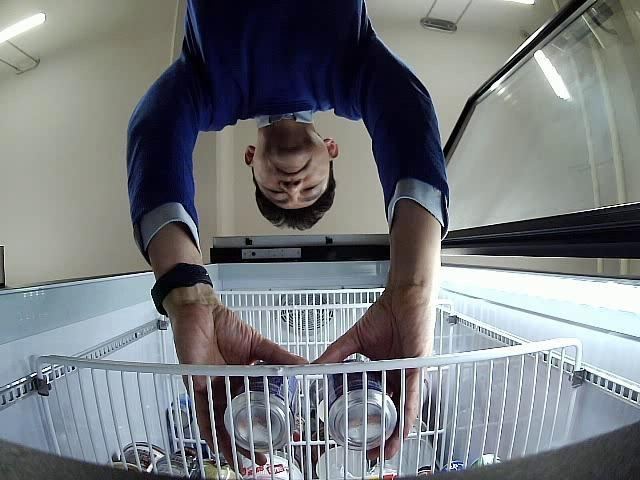14_welchsGrape: (224, 364, 299, 453), (328, 358, 398, 450)
